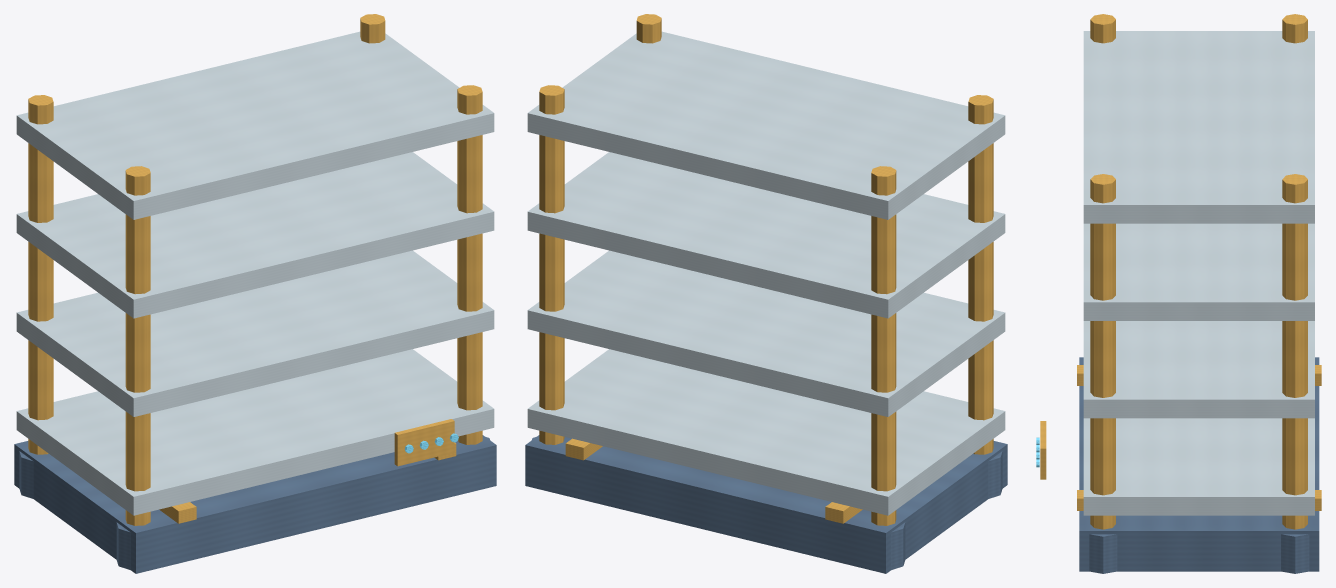
File: atlas100-s052-a06.glb
3 views of the same model, side by side, from view 1: azimuth 30°, elevation 25°; view 2: azimuth 150°, elevation 25°; view 3: azimuth 270°, elevation 25° (orthographic).
Parts seen in each view (by area): view 1: atlas100-s052-a06:part-014, atlas100-s052-a06:part-012, atlas100-s052-a06:part-013, atlas100-s052-a06:part-011, atlas100-s052-a06:part-000, atlas100-s052-a06:part-005, atlas100-s052-a06:part-009, atlas100-s052-a06:part-003, atlas100-s052-a06:part-015, atlas100-s052-a06:part-007, atlas100-s052-a06:part-006, atlas100-s052-a06:part-004; view 2: atlas100-s052-a06:part-014, atlas100-s052-a06:part-012, atlas100-s052-a06:part-013, atlas100-s052-a06:part-011, atlas100-s052-a06:part-000, atlas100-s052-a06:part-003, atlas100-s052-a06:part-007, atlas100-s052-a06:part-005, atlas100-s052-a06:part-009, atlas100-s052-a06:part-004, atlas100-s052-a06:part-006; view 3: atlas100-s052-a06:part-014, atlas100-s052-a06:part-012, atlas100-s052-a06:part-011, atlas100-s052-a06:part-013, atlas100-s052-a06:part-000, atlas100-s052-a06:part-007, atlas100-s052-a06:part-009, atlas100-s052-a06:part-008, atlas100-s052-a06:part-010, atlas100-s052-a06:part-005, atlas100-s052-a06:part-003, atlas100-s052-a06:part-015.
Part boxes in pixels (x1,y1,x2,y2): atlas100-s052-a06:part-014: (16,31,494,219); atlas100-s052-a06:part-012: (16,250,494,416); atlas100-s052-a06:part-013: (16,152,494,318); atlas100-s052-a06:part-011: (16,349,494,515); atlas100-s052-a06:part-000: (14,435,496,573); atlas100-s052-a06:part-005: (125,166,150,525); atlas100-s052-a06:part-009: (457,85,482,444); atlas100-s052-a06:part-003: (28,95,53,454); atlas100-s052-a06:part-015: (394,419,454,466); atlas100-s052-a06:part-007: (360,14,385,43); atlas100-s052-a06:part-006: (116,522,130,570); atlas100-s052-a06:part-004: (19,451,33,498); atlas100-s052-a06:part-014: (527,31,1005,219); atlas100-s052-a06:part-012: (527,250,1005,416); atlas100-s052-a06:part-013: (527,152,1005,318); atlas100-s052-a06:part-011: (527,349,1005,515); atlas100-s052-a06:part-000: (525,435,1007,573); atlas100-s052-a06:part-003: (871,166,896,525); atlas100-s052-a06:part-007: (539,85,564,444); atlas100-s052-a06:part-005: (968,95,993,454); atlas100-s052-a06:part-009: (636,14,661,43); atlas100-s052-a06:part-004: (891,522,905,570); atlas100-s052-a06:part-006: (988,451,1002,498); atlas100-s052-a06:part-014: (1083,31,1314,223); atlas100-s052-a06:part-012: (1083,321,1314,418); atlas100-s052-a06:part-011: (1083,418,1314,515); atlas100-s052-a06:part-013: (1083,223,1314,320); atlas100-s052-a06:part-000: (1079,357,1319,571); atlas100-s052-a06:part-007: (1282,174,1307,529); atlas100-s052-a06:part-009: (1090,174,1115,529); atlas100-s052-a06:part-008: (1281,534,1309,573); atlas100-s052-a06:part-010: (1089,534,1117,573); atlas100-s052-a06:part-005: (1090,14,1115,43); atlas100-s052-a06:part-003: (1282,14,1307,43); atlas100-s052-a06:part-015: (1040,421,1046,479).
Bounding box in the file's own units: 2.47 × 2.48 × 1.66.
Materials: 4 (4 with a texture image).
